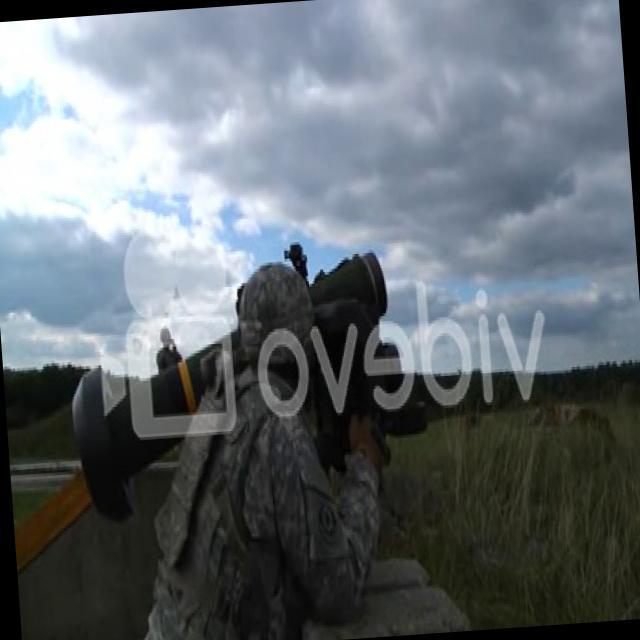rocket: (68, 334, 246, 529)
